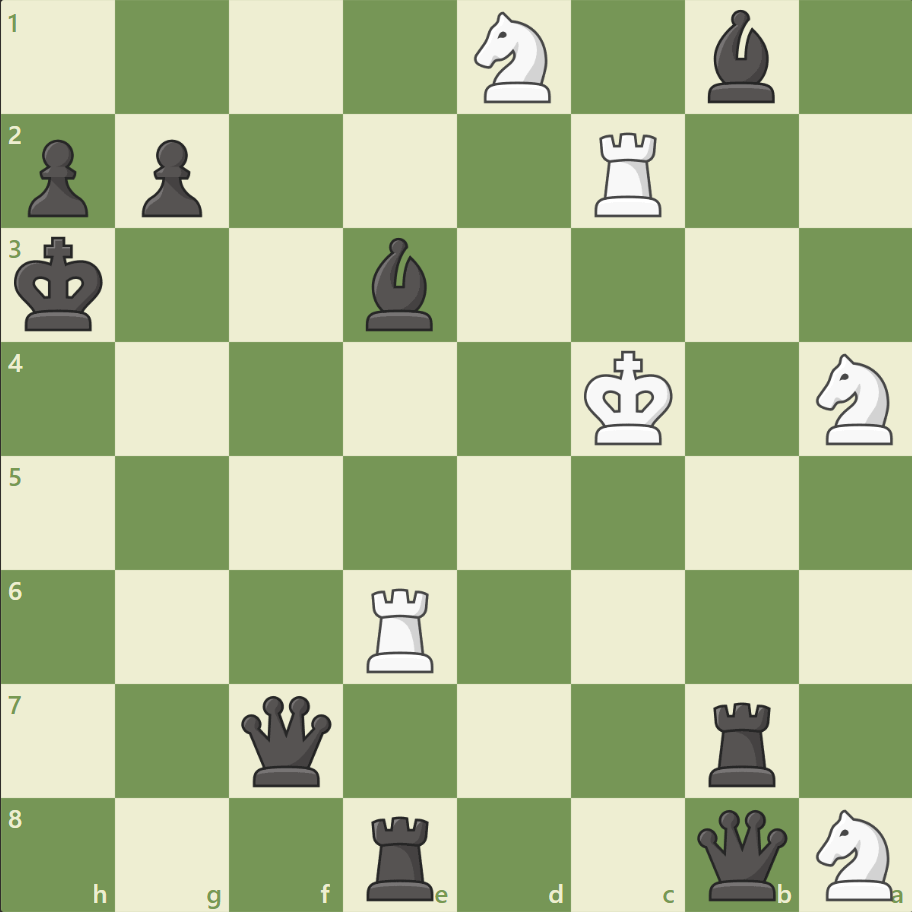K: (579, 344, 679, 452)
N: (465, 7, 562, 110), (806, 802, 903, 904), (806, 348, 903, 450)
R: (587, 125, 670, 222), (360, 579, 442, 676)
b: (358, 233, 442, 336), (698, 6, 782, 109)
k: (11, 231, 111, 339)
p: (133, 132, 208, 223), (20, 132, 95, 223)
q: (691, 804, 790, 903), (237, 690, 336, 789)
r: (700, 693, 783, 790), (360, 806, 442, 904)
